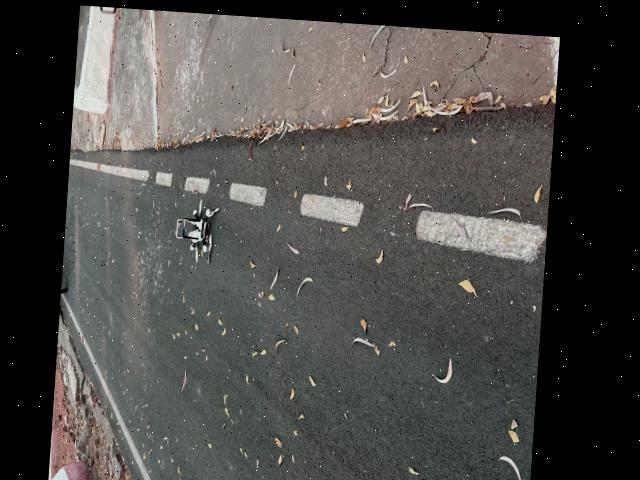drone: (145, 176, 254, 278)
